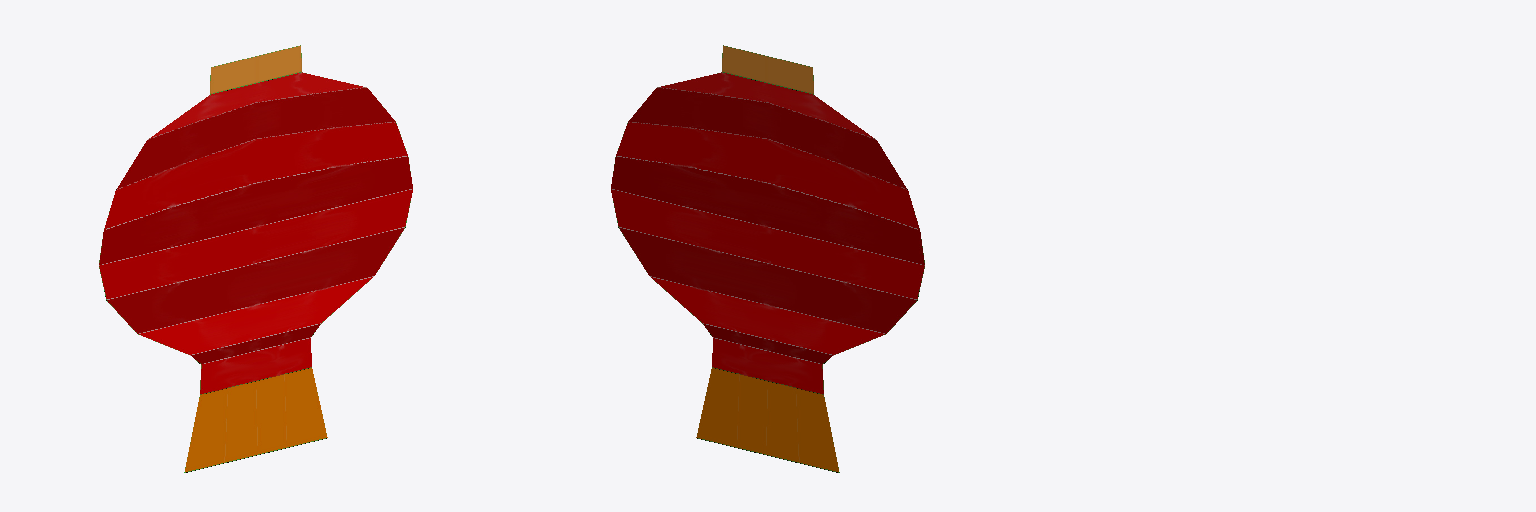
The picture shows the model from 3 angles: view 1: azimuth 30°, elevation 25°; view 2: azimuth 150°, elevation 25°; view 3: azimuth 270°, elevation 25°; orthographic projection.
Visible parts, largest first — view 1: Plane007; view 2: Plane007; view 3: none.
Part boxes in pixels (bbox=[...]): Plane007: bbox=[99, 45, 412, 472]; Plane007: bbox=[611, 45, 924, 472].
Size of the model in its own units: 0.976 by 1.19 by 0.
1 materials, 1 textured.